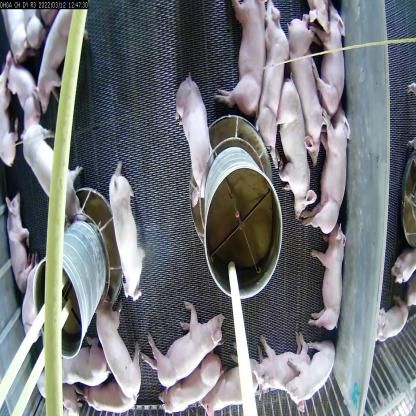Pig: (165, 61, 225, 195), (99, 159, 151, 312), (146, 301, 226, 382), (284, 15, 324, 173), (279, 69, 314, 226), (23, 122, 78, 219), (257, 7, 288, 167), (98, 298, 144, 402), (285, 336, 344, 416), (225, 0, 263, 120), (309, 9, 348, 121), (160, 354, 224, 416), (205, 352, 267, 415), (311, 215, 342, 339), (320, 97, 348, 232), (247, 321, 295, 399), (40, 9, 72, 119), (49, 334, 112, 388), (3, 188, 29, 290), (4, 46, 37, 121)
